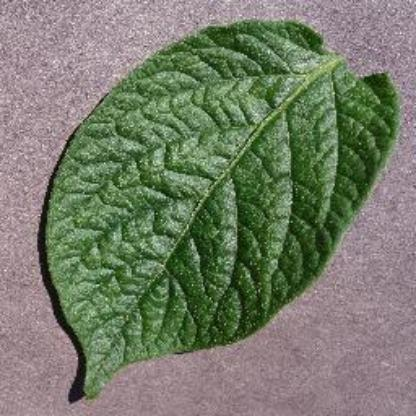Healthy-plant: (40, 15, 400, 400)
